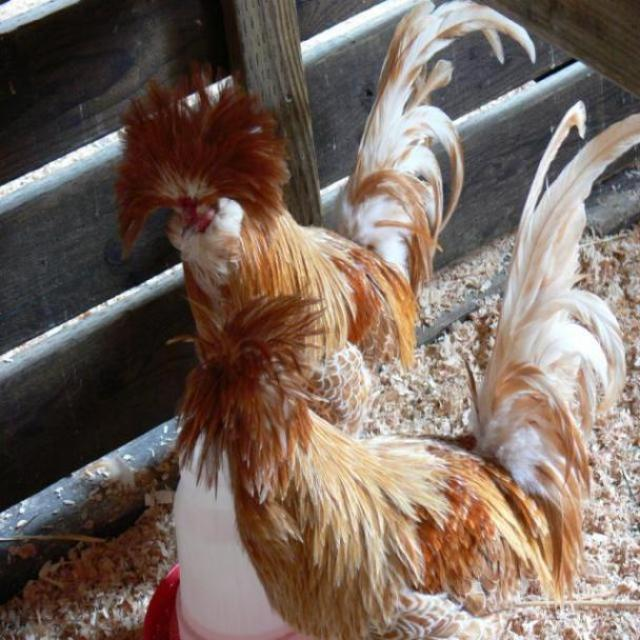Chicken: (181, 170, 640, 640), (114, 3, 537, 445)
